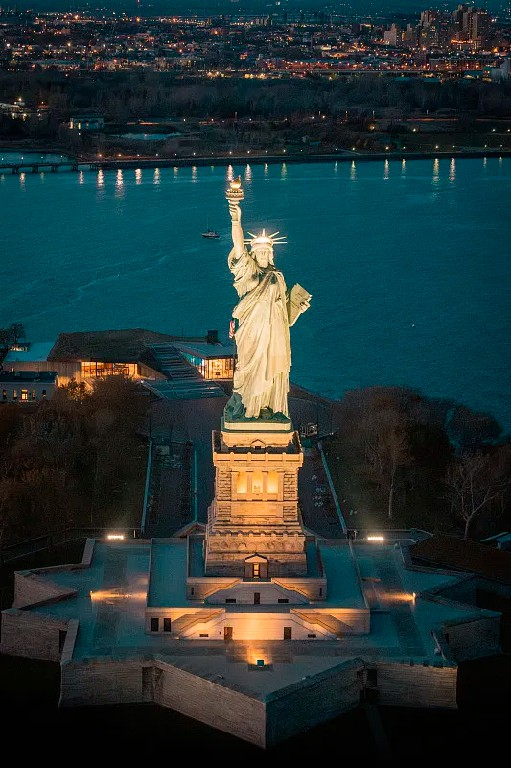SL: (202, 171, 312, 575)
